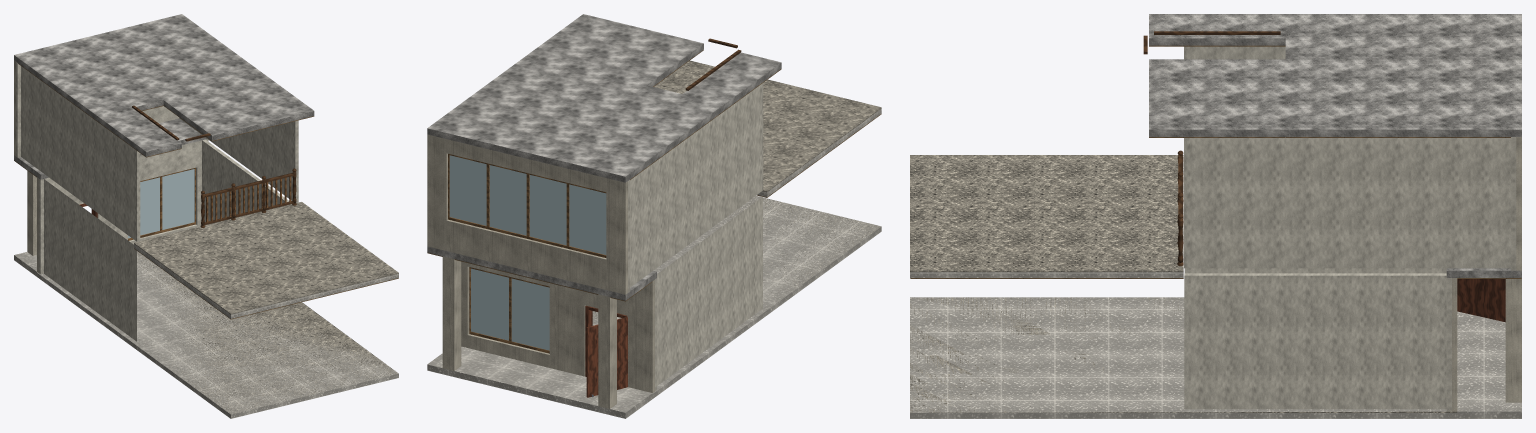
3 views of the same model, side by side, from view 1: azimuth 30°, elevation 25°; view 2: azimuth 150°, elevation 25°; view 3: azimuth 270°, elevation 25° (orthographic). The views are drawn at different scales.
Visible parts, largest first — view 1: rowhouse_1950.117; view 2: rowhouse_1950.117; view 3: rowhouse_1950.117.
Boxes of the visible parts, bbox=[...] form: rowhouse_1950.117: bbox=[14, 14, 398, 418]; rowhouse_1950.117: bbox=[427, 14, 881, 418]; rowhouse_1950.117: bbox=[910, 14, 1521, 418].
Size of the model in its own units: 510 by 606 by 1140.
